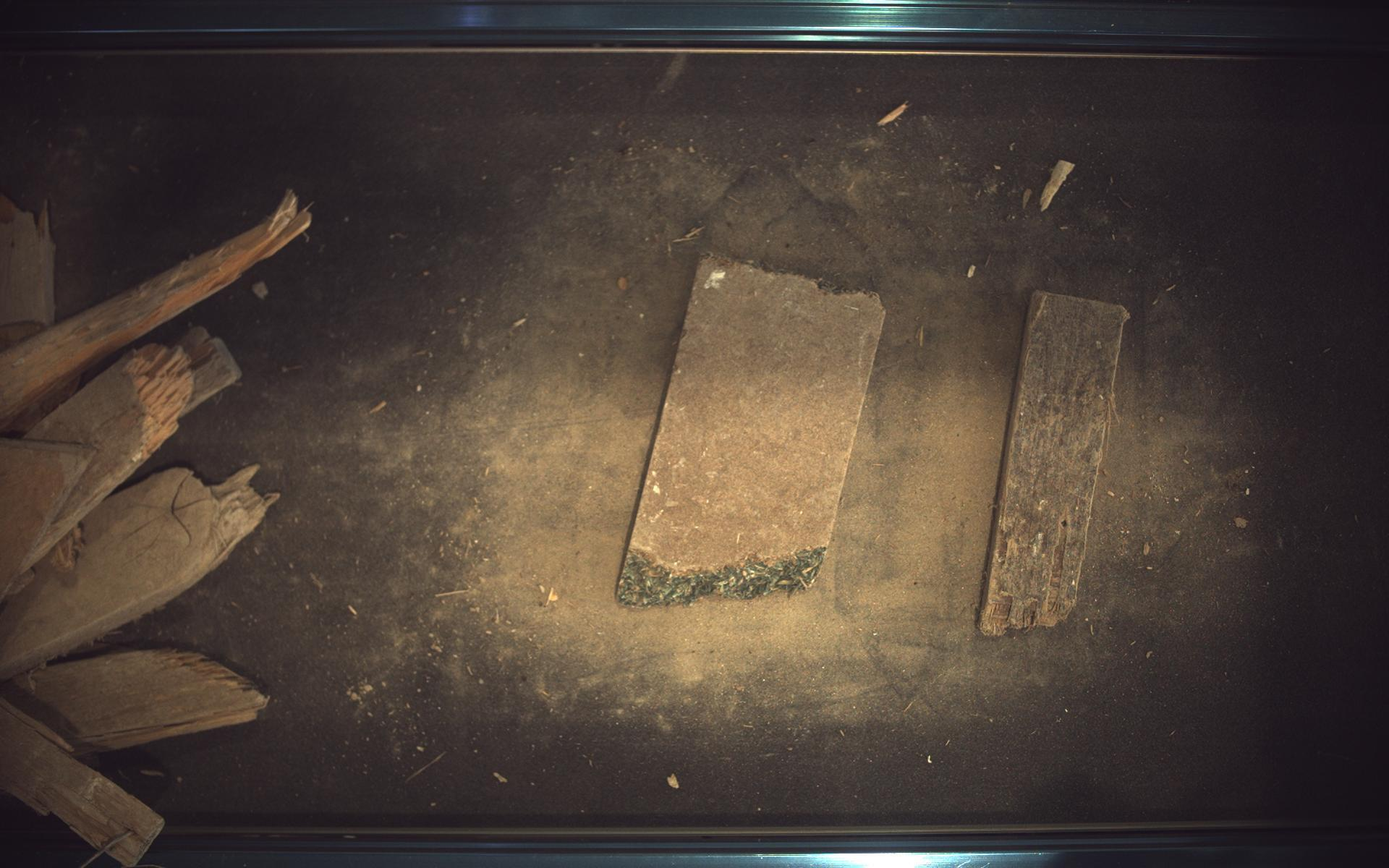wood: (618, 259, 886, 606), (1, 190, 310, 430), (1, 466, 279, 681), (981, 290, 1131, 637), (1, 344, 192, 598), (1, 650, 268, 756), (1, 702, 163, 868), (1, 439, 92, 598), (1, 194, 54, 326), (184, 327, 241, 413)
